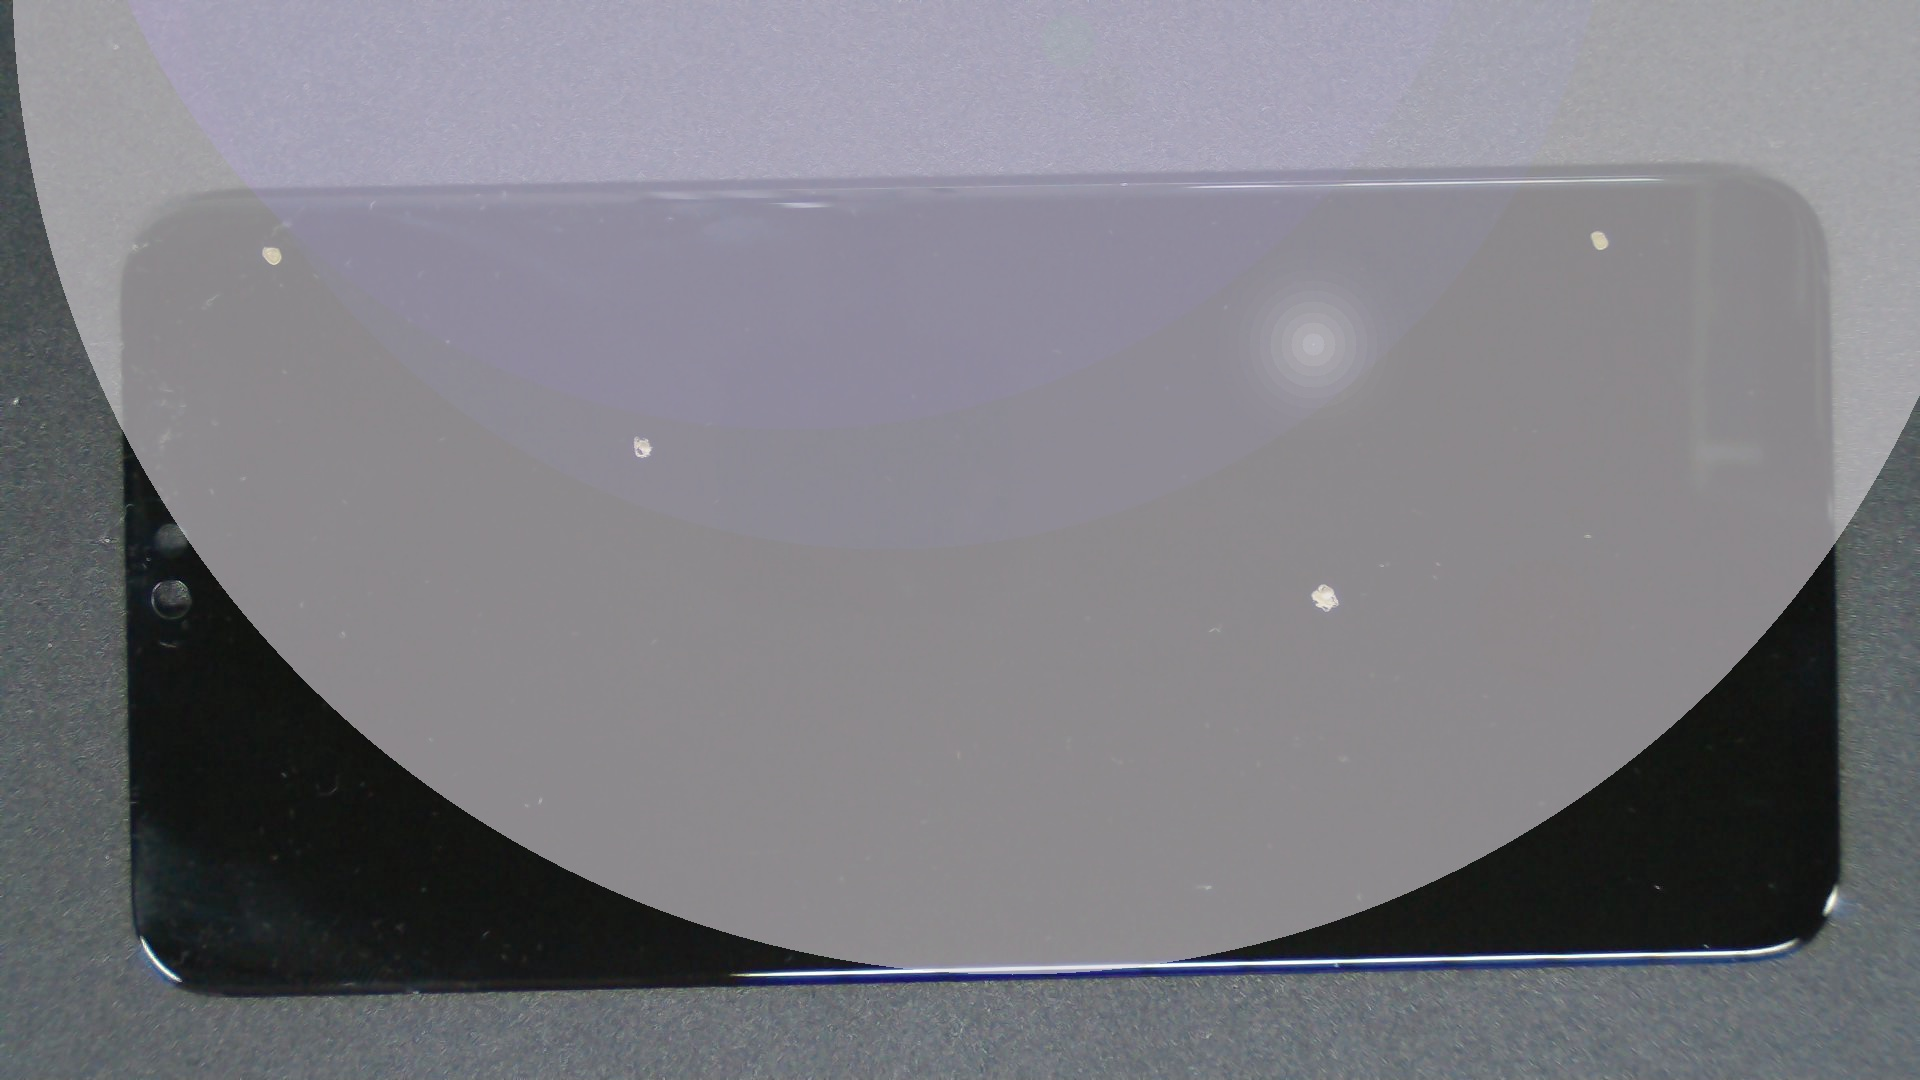oil: (661, 290, 1920, 876), (319, 216, 952, 654), (799, 115, 1920, 345), (133, 123, 397, 368)
